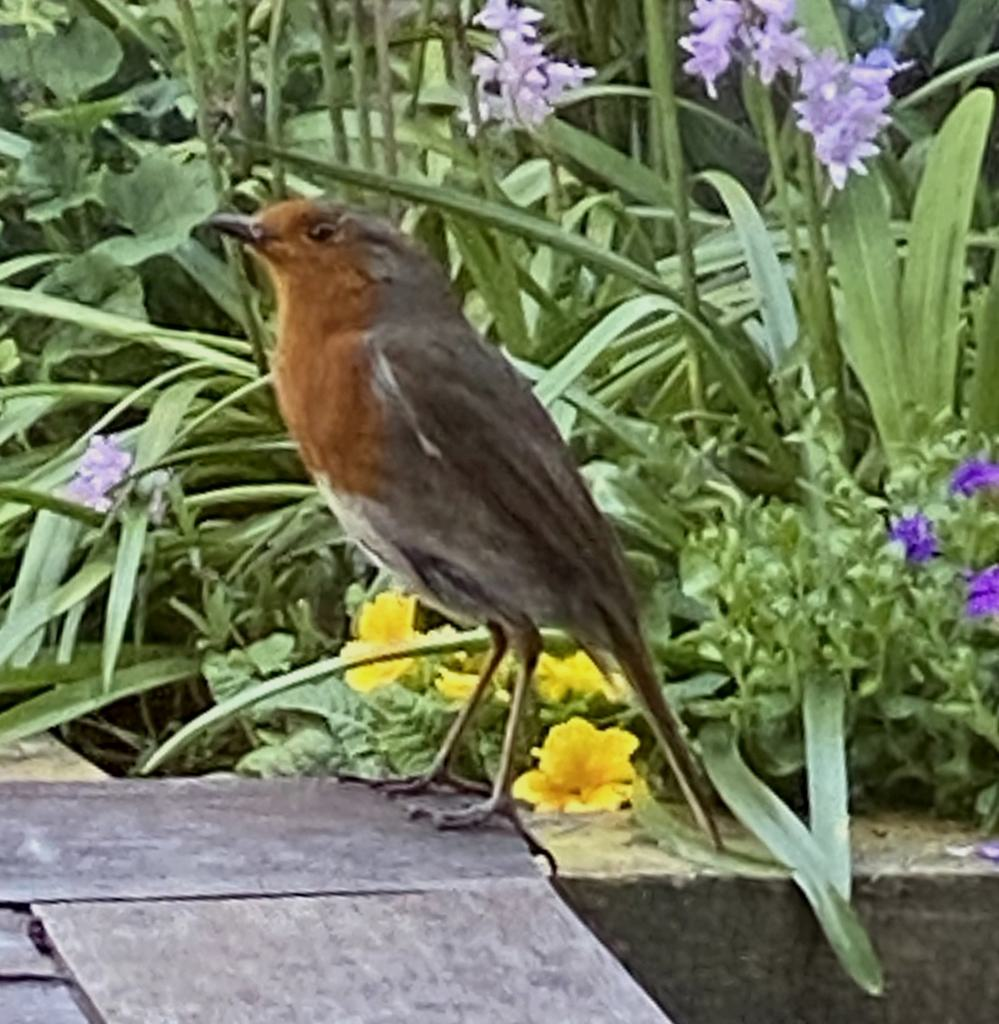ErithacusRubecula: (212, 200, 726, 852)
